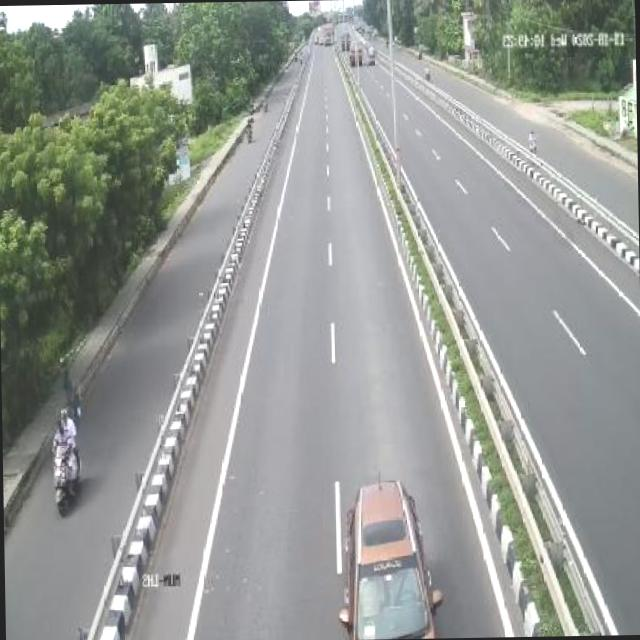car: (342, 478, 437, 640)
